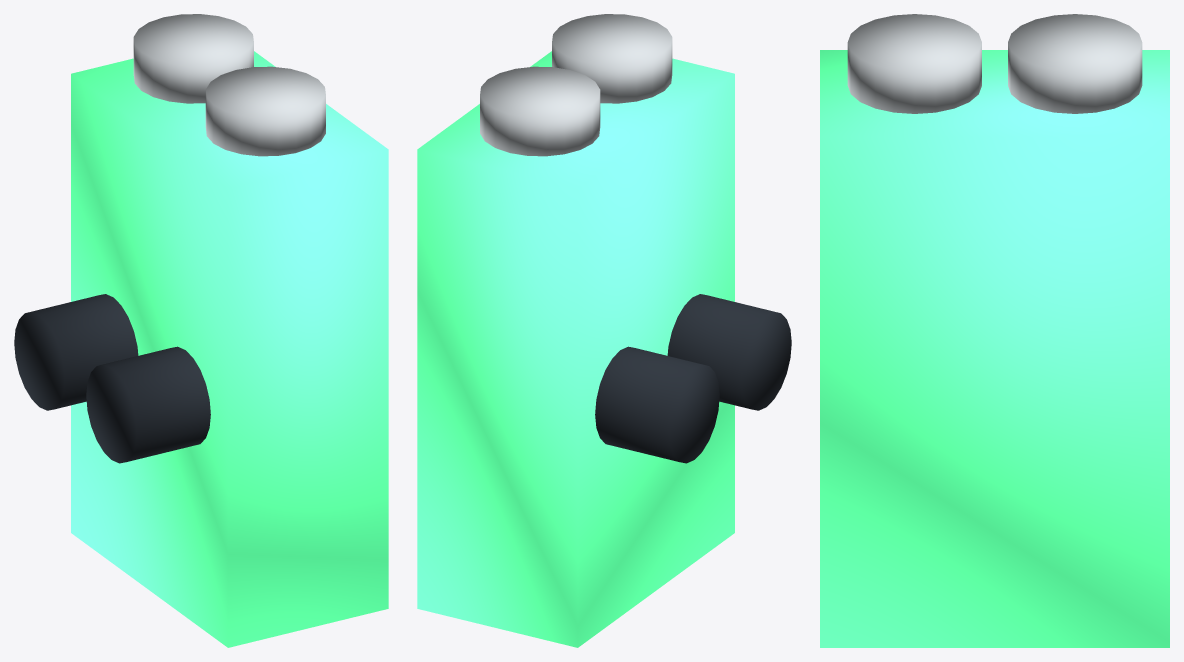
The model's file is 41_L94_J1_Protected5VTerminal.fbx.
3 views of the same model, side by side, from view 1: azimuth 30°, elevation 25°; view 2: azimuth 150°, elevation 25°; view 3: azimuth 270°, elevation 25° (orthographic). The views are drawn at different scales.
Visible parts, largest first — view 1: L94_Protected5VTerminal_Part_0000, L94_Protected5VTerminal_Part_0002, L94_Protected5VTerminal_Part_0001; view 2: L94_Protected5VTerminal_Part_0000, L94_Protected5VTerminal_Part_0002, L94_Protected5VTerminal_Part_0001; view 3: L94_Protected5VTerminal_Part_0000, L94_Protected5VTerminal_Part_0001.
Boxes of the visible parts, x1,y1,x2,y2 form: L94_Protected5VTerminal_Part_0000: [71, 51, 388, 647]; L94_Protected5VTerminal_Part_0002: [14, 294, 210, 463]; L94_Protected5VTerminal_Part_0001: [133, 14, 325, 156]; L94_Protected5VTerminal_Part_0000: [417, 51, 734, 647]; L94_Protected5VTerminal_Part_0002: [595, 294, 791, 463]; L94_Protected5VTerminal_Part_0001: [480, 14, 672, 156]; L94_Protected5VTerminal_Part_0000: [820, 50, 1169, 647]; L94_Protected5VTerminal_Part_0001: [847, 14, 1142, 113].
Size of the model in its own units: 0.139 by 0.286 by 0.1613.
